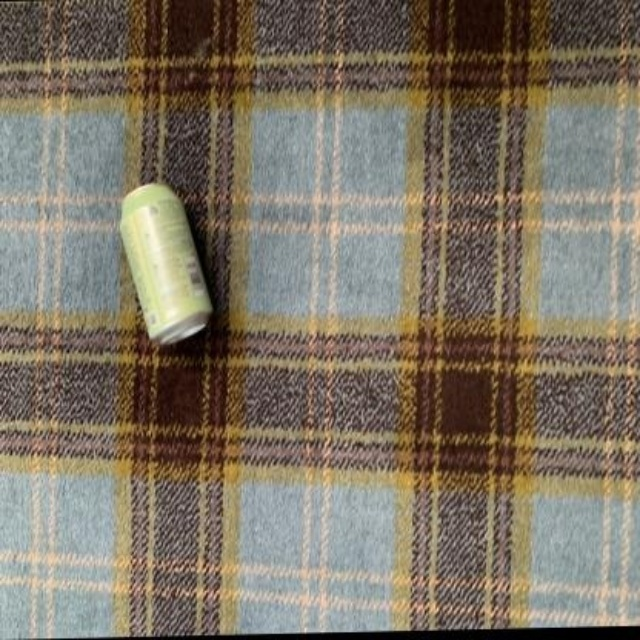trash: (120, 183, 211, 343)
